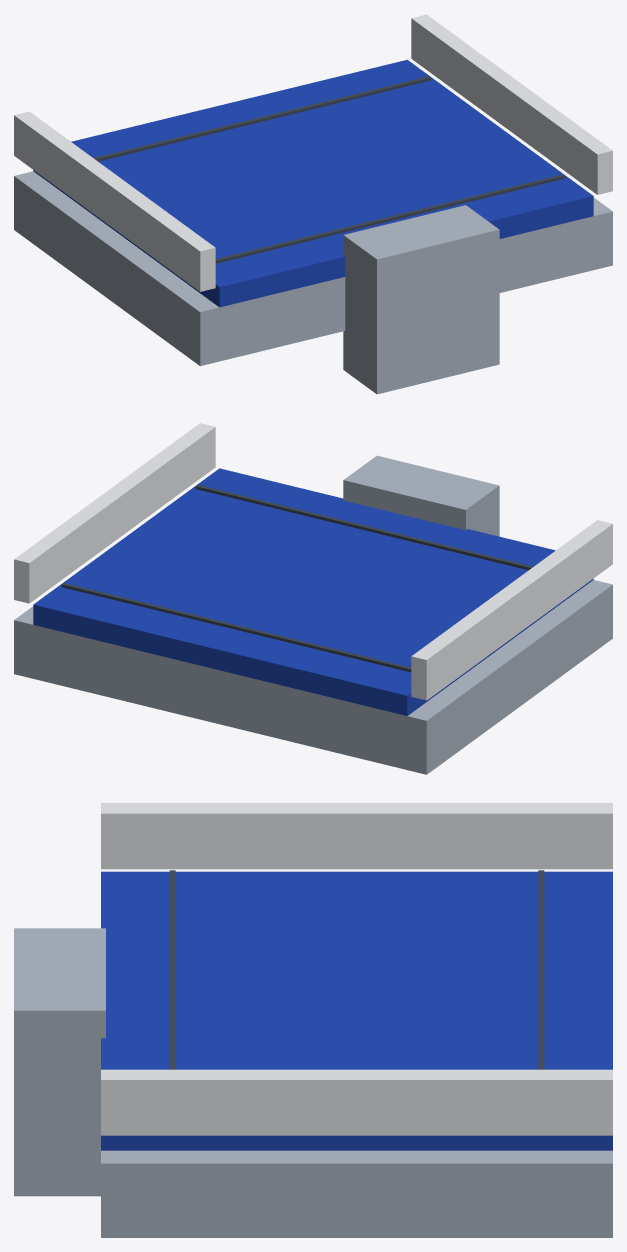
File: SM_MPR_SorterSimTray.fbx
3 renders of one model, top to bottom at view 1: azimuth 30°, elevation 25°; view 2: azimuth 150°, elevation 25°; view 3: azimuth 270°, elevation 25°, orthographic. The views are drawn at different scales.
Parts seen in each view (by area): view 1: SM_MPR_SorterSimTray; view 2: SM_MPR_SorterSimTray; view 3: SM_MPR_SorterSimTray.
Part boxes in pixels (x1=…): SM_MPR_SorterSimTray: x1=14, y1=14, x2=612, y2=394; SM_MPR_SorterSimTray: x1=14, y1=423, x2=612, y2=774; SM_MPR_SorterSimTray: x1=14, y1=803, x2=612, y2=1237.
Size of the model in its own units: 32 by 29.25 by 11.5.
